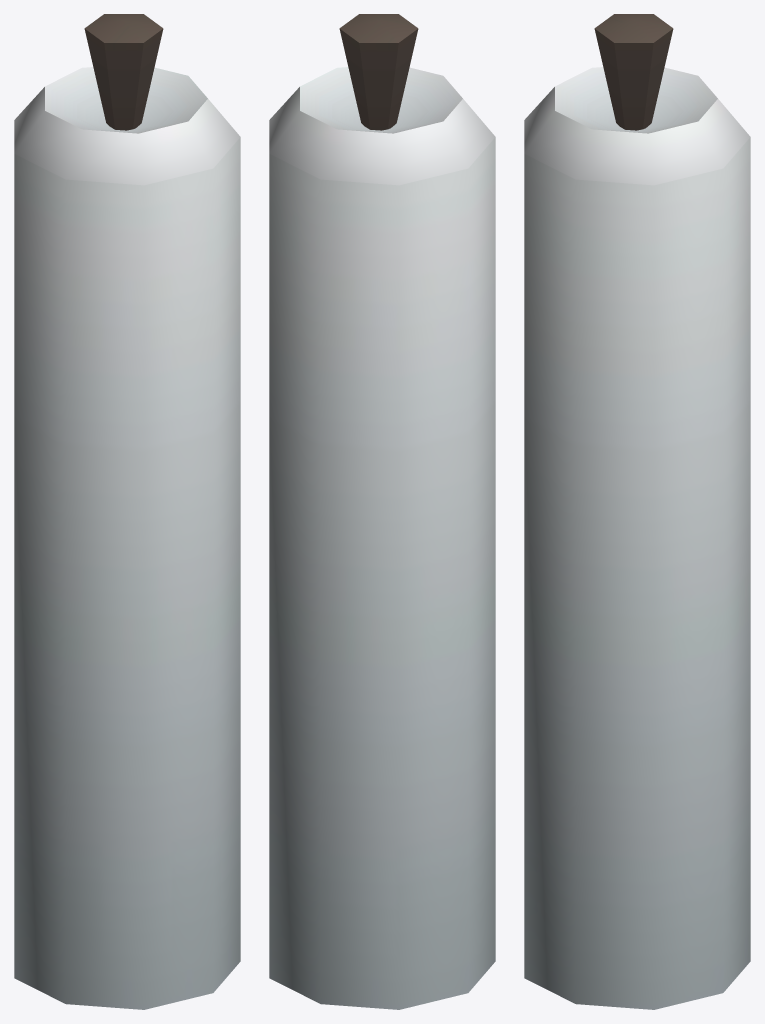
The model's file is kaykit-halloween-bits-candle-thin.glb.
The picture shows the model from 3 angles, left to right: view 1: azimuth 30°, elevation 25°; view 2: azimuth 150°, elevation 25°; view 3: azimuth 270°, elevation 25°; orthographic projection.
Visible parts, largest first — view 1: candle_thin; view 2: candle_thin; view 3: candle_thin.
Boxes of the visible parts, x1,y1,x2,y2 form: candle_thin: (14, 14, 240, 1009); candle_thin: (269, 14, 495, 1009); candle_thin: (524, 14, 750, 1009).
Size of the model in its own units: 0.1739 by 0.7857 by 0.1712.
1 material, 1 textured.
